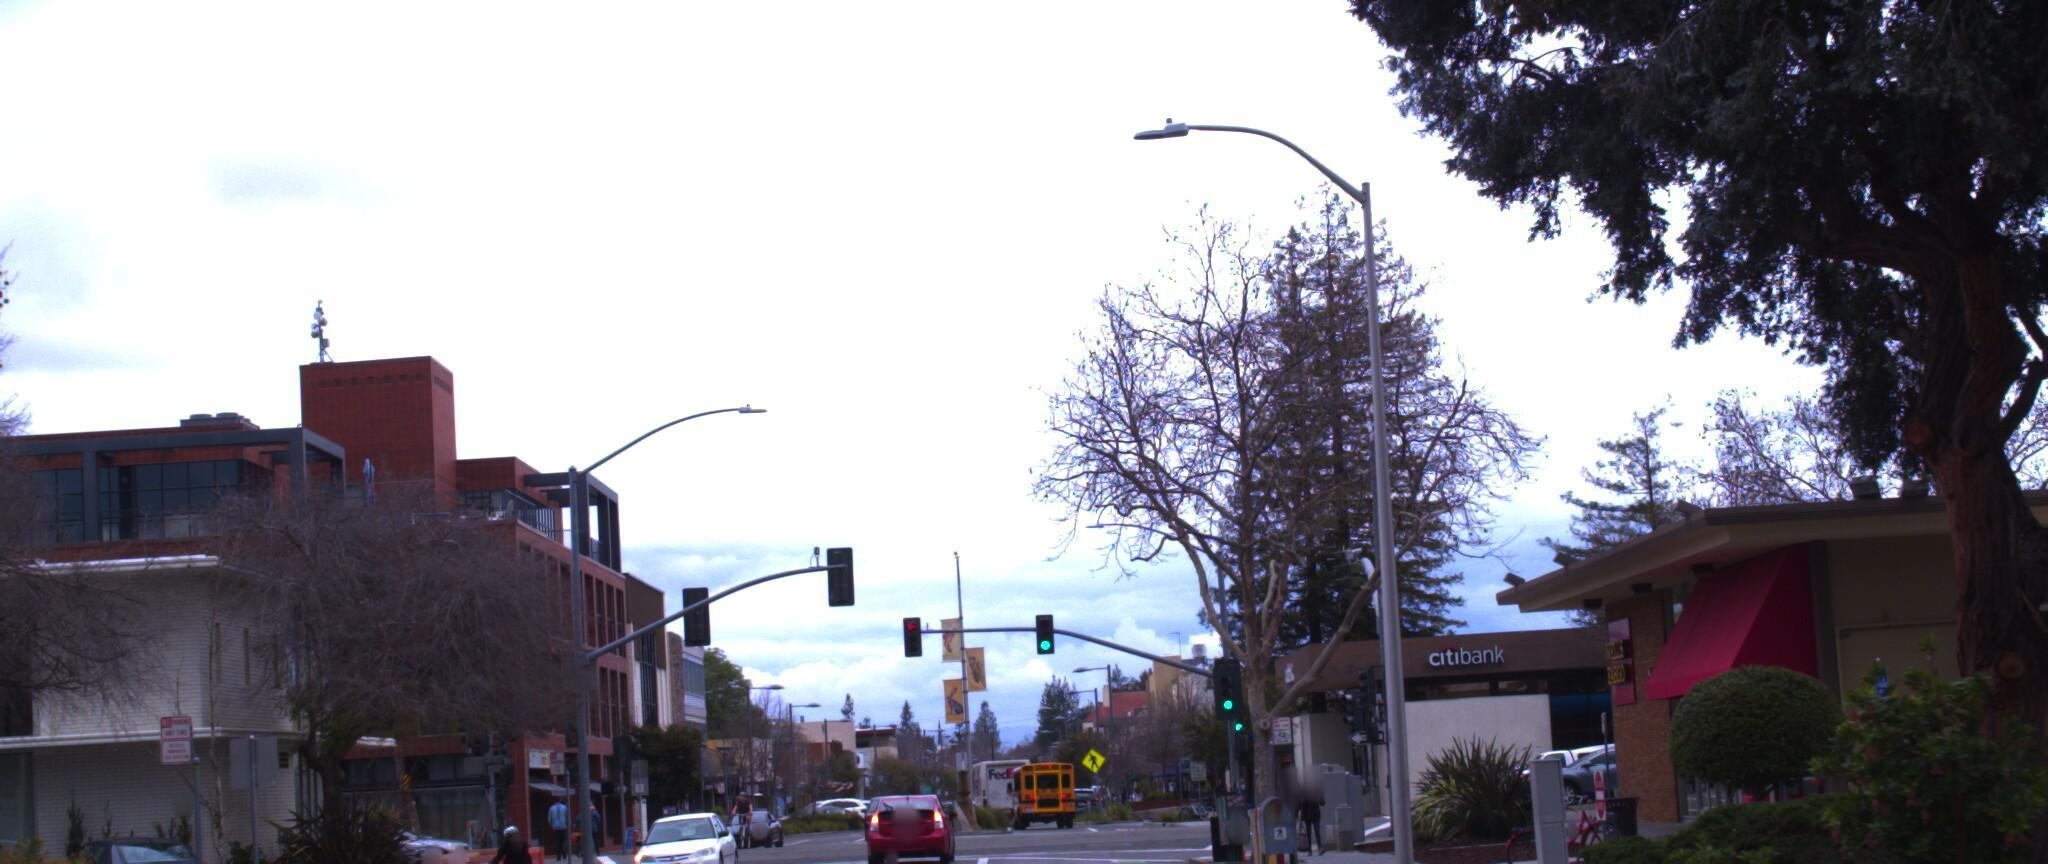bicycle: (1499, 792, 1639, 864), (488, 824, 563, 864)
car: (34, 833, 248, 864), (870, 792, 963, 864), (635, 809, 751, 864)
